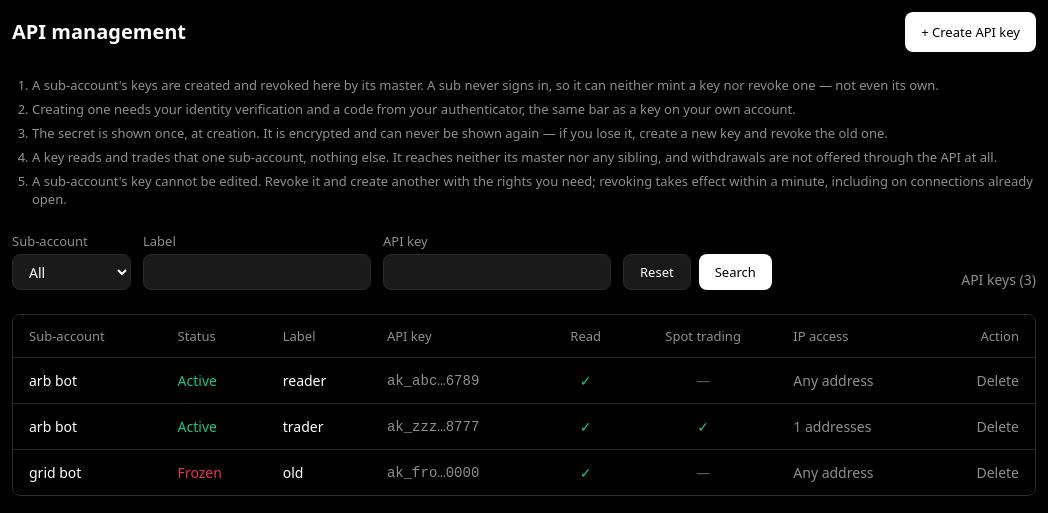
it: Sub-account API management › filters on Search by sub and by label, not as the fields change
Expected: the cell "trader" is shown, [267,404,371,450]
Type "read" into the field named "Label" at (257, 272), box [143,254,371,290]
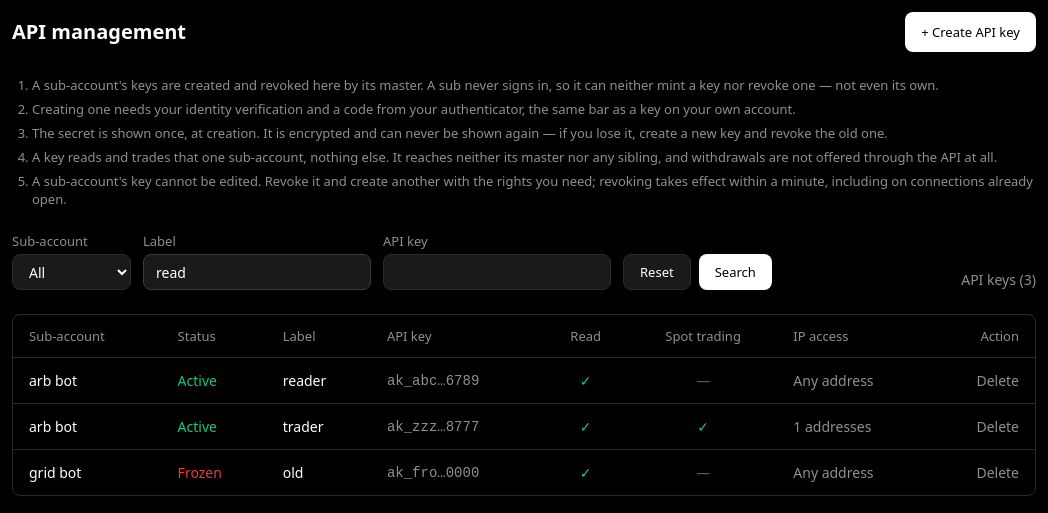
Expected: the cell "trader" is shown, [267,404,371,450]
Click the button "Search" at (735, 272), box [699,254,772,290]
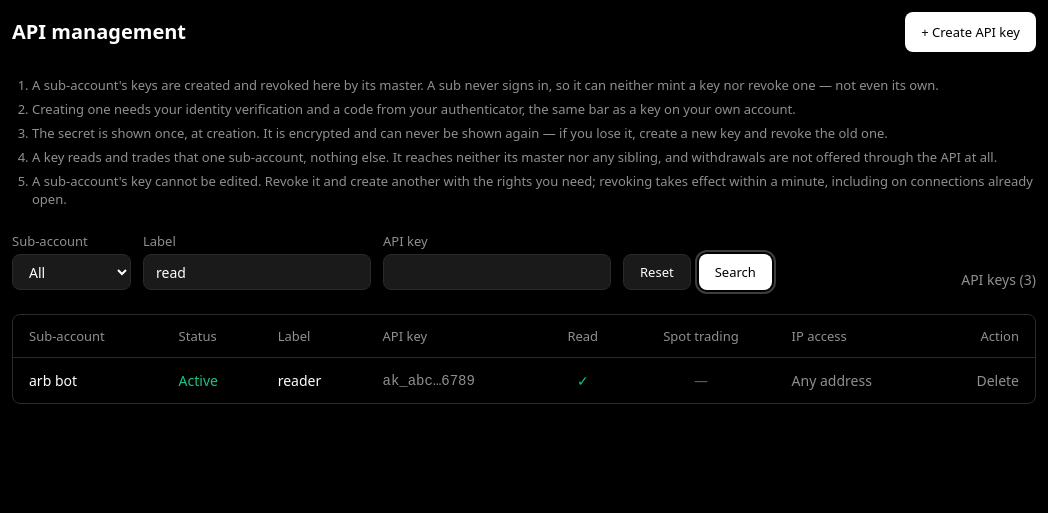
Expected: the cell "reader" is shown, [262,358,366,403]
Expected: the cell "trader" is gone
Click the button "Reset" at (657, 272), box [623,254,691,290]
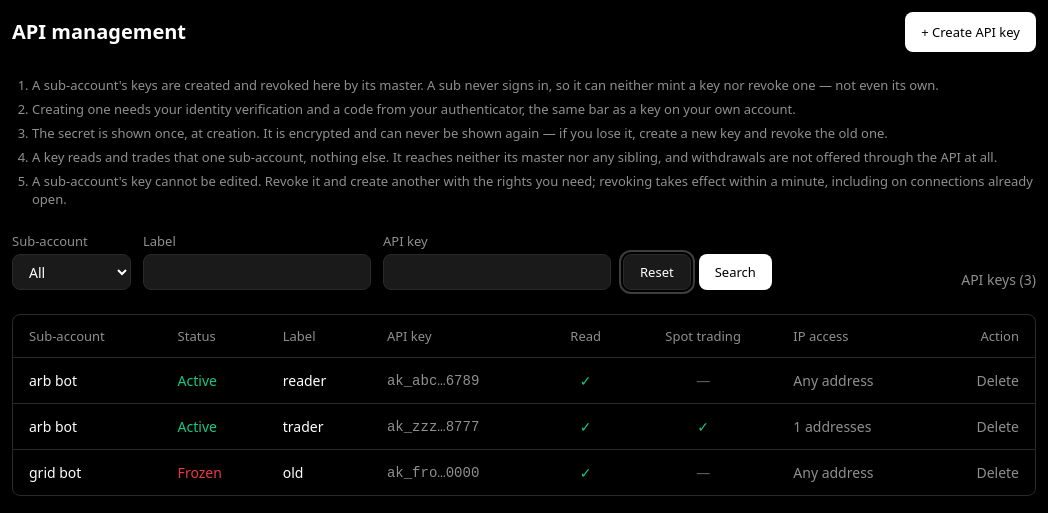
Expected: the cell "trader" is shown, [267,404,371,450]
Select "grid bot" in the dropdown named "Sub-account" at (72, 272), box [12,254,131,290]
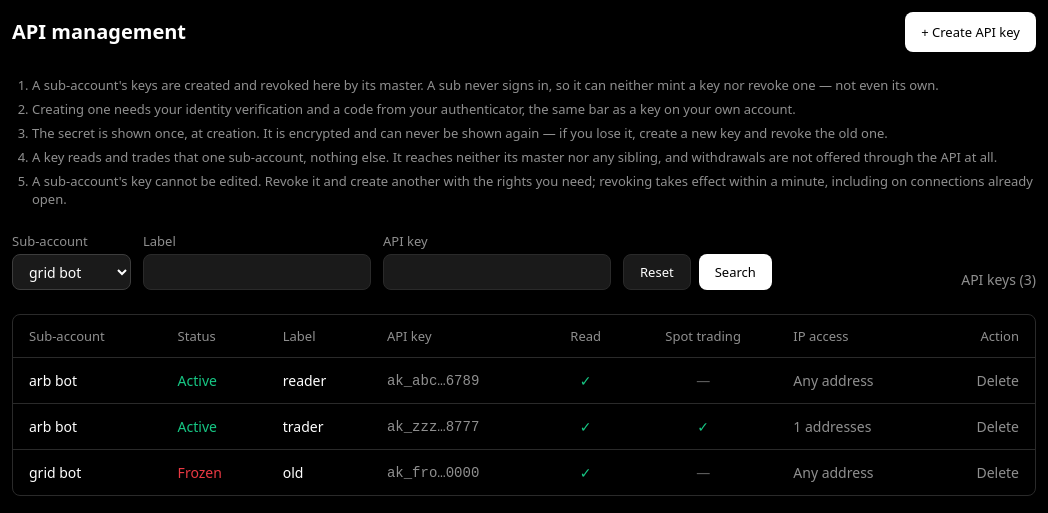
Click the button "Search" at (735, 272), box [699,254,772,290]
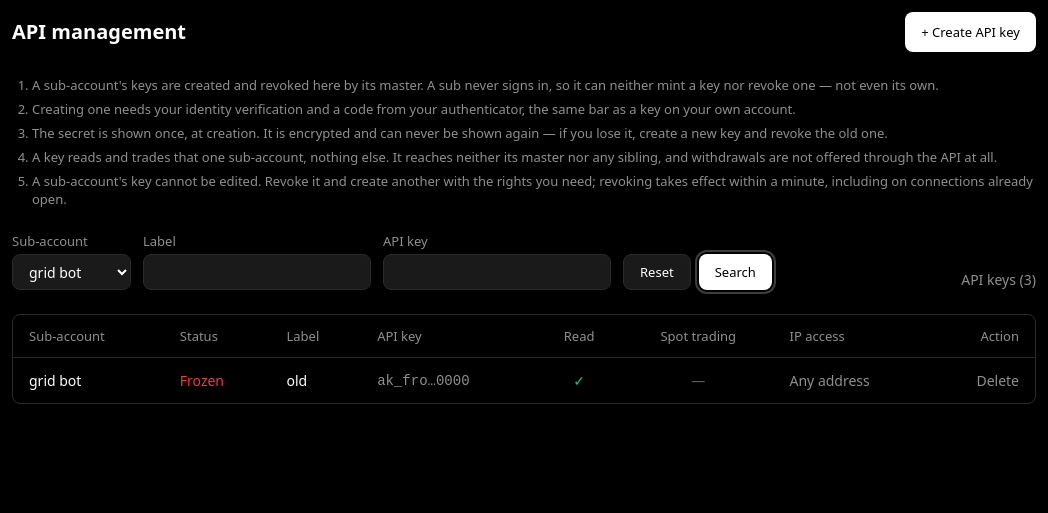
Expected: the cell "old" is shown, [270,358,361,403]
Expected: the cell "reader" is gone
